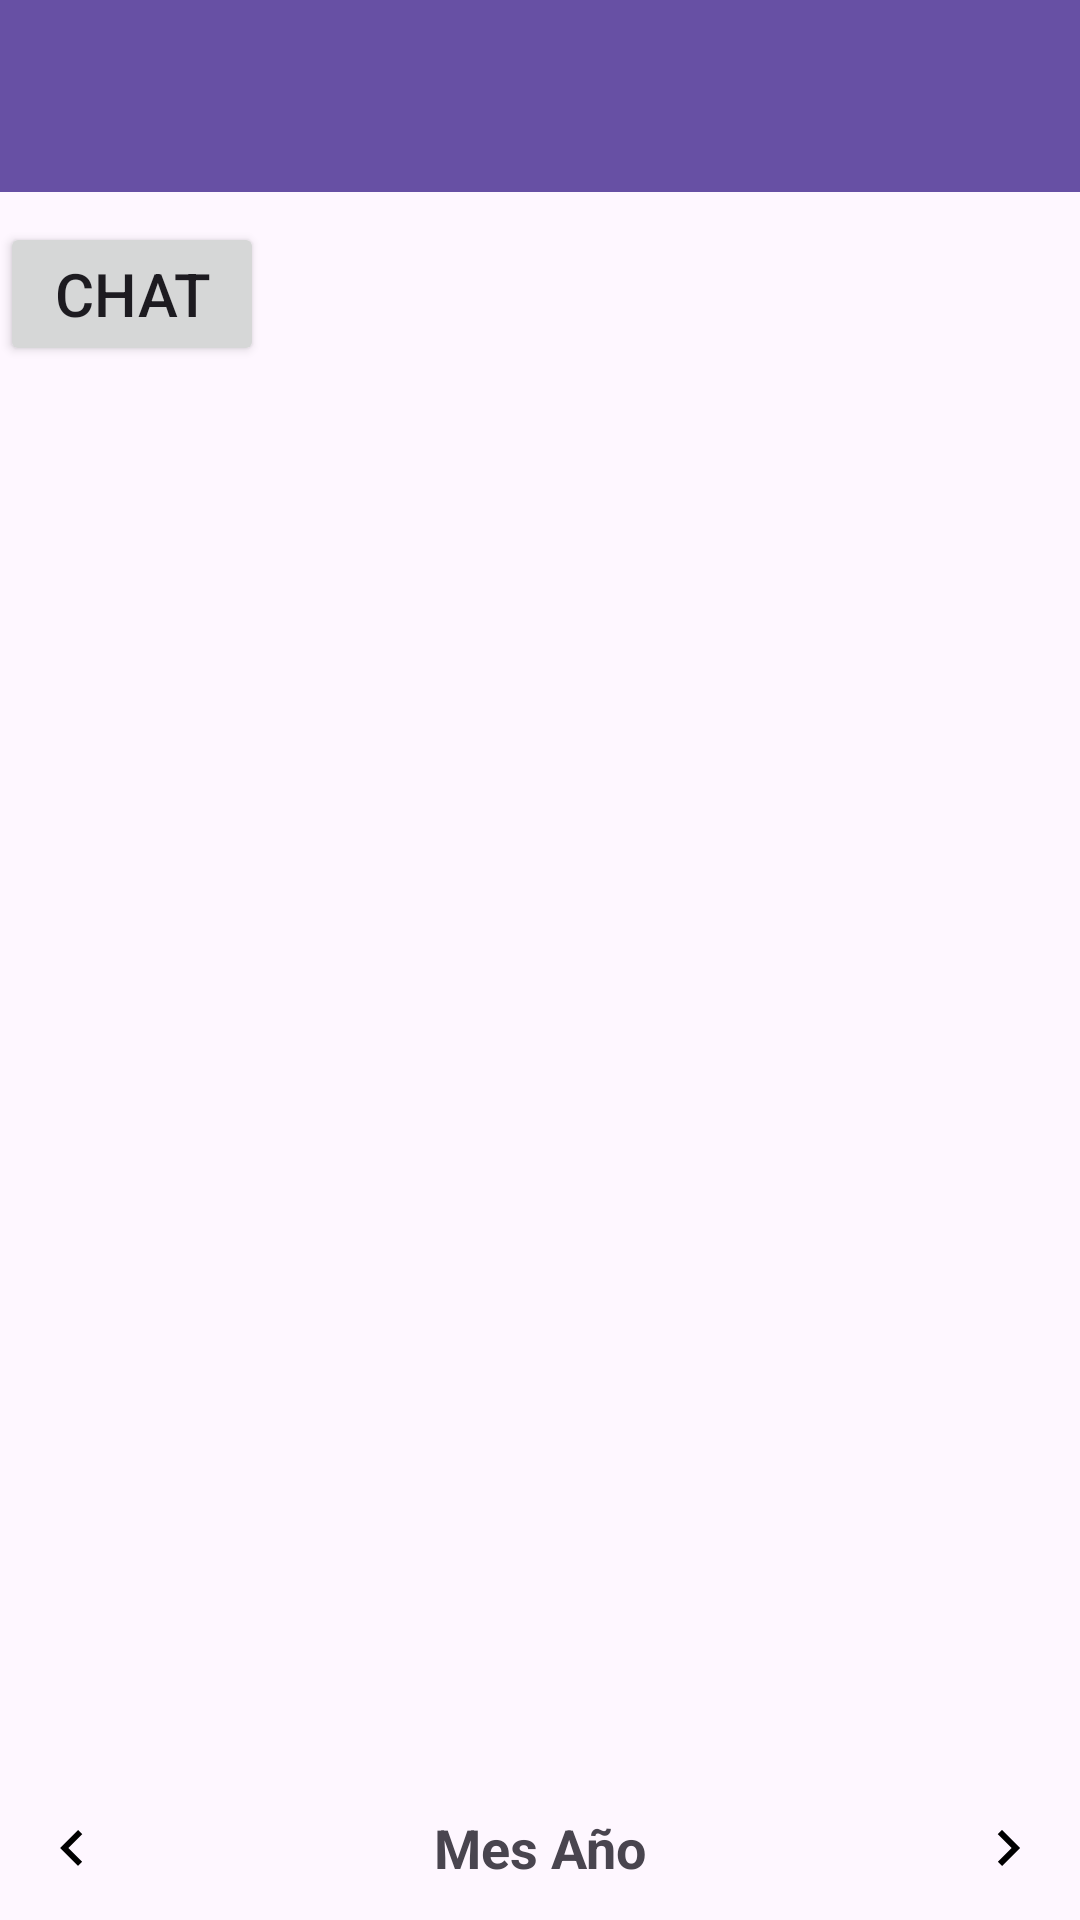

Locate icon controls on the screen. Image size 1080*1920, boxes as {"left": x1, "top": y1, "right": x2, "bottom": y2}.
derecha: {"left": 998, "top": 1830, "right": 1020, "bottom": 1866}
izquierda: {"left": 60, "top": 1830, "right": 82, "bottom": 1866}
